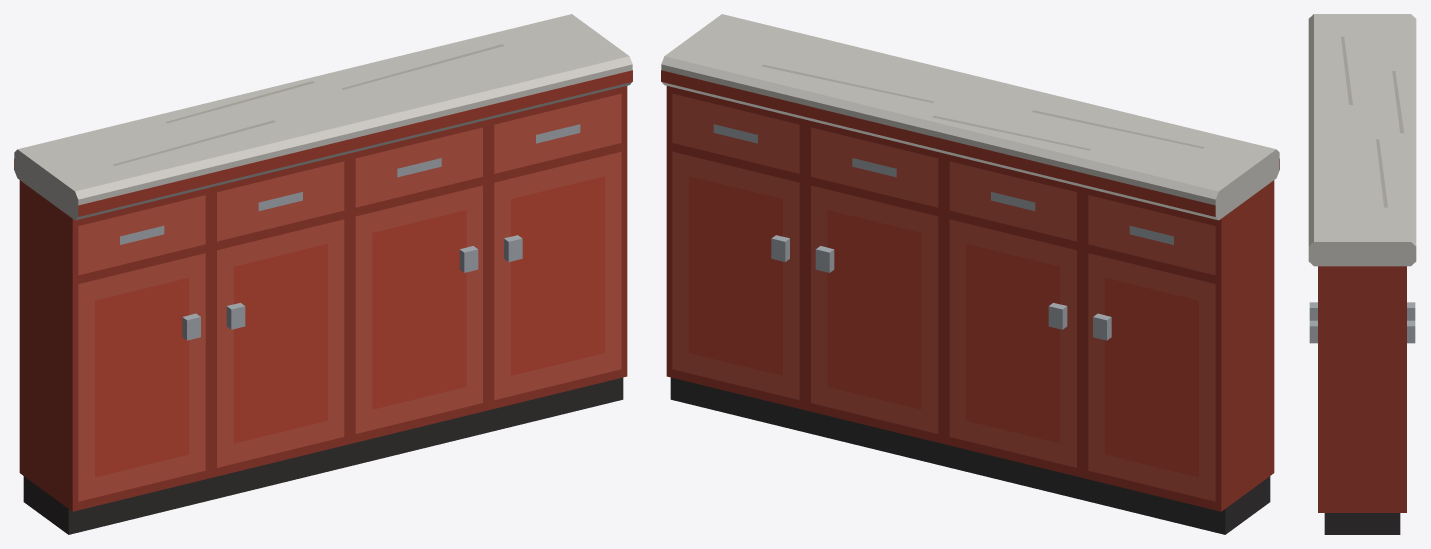
The model's file is kitchen-wall1.glb.
3 renders of one model, left to right at view 1: azimuth 30°, elevation 25°; view 2: azimuth 150°, elevation 25°; view 3: azimuth 270°, elevation 25°, orthographic. The views are drawn at different scales.
Visible parts, largest first — view 1: kitchen-wall1; view 2: kitchen-wall1; view 3: kitchen-wall1.
Part boxes in pixels (x1=…): kitchen-wall1: x1=14, y1=14, x2=632, y2=534; kitchen-wall1: x1=661, y1=14, x2=1279, y2=534; kitchen-wall1: x1=1308, y1=14, x2=1416, y2=534.
Bounding box in the file's own units: 2 × 1.2 × 0.401.
